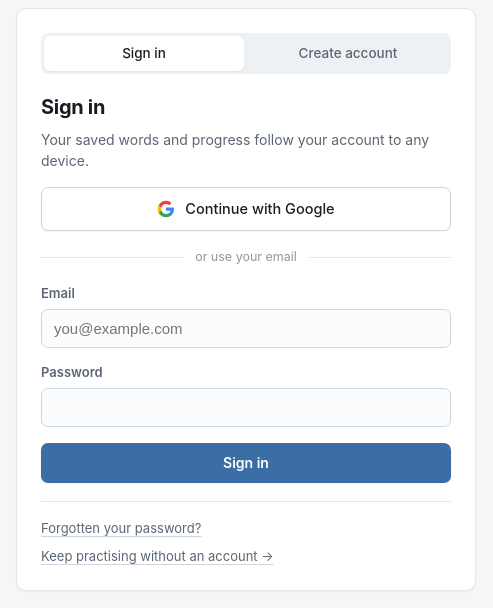
Scenario: AccountPage — Google › hides Google on the password-reset step
This screenshot has width=493, height=608.
Click the button "Forgotten your password?" at (121, 528), box top-left (41, 518), bottom-right (201, 538)
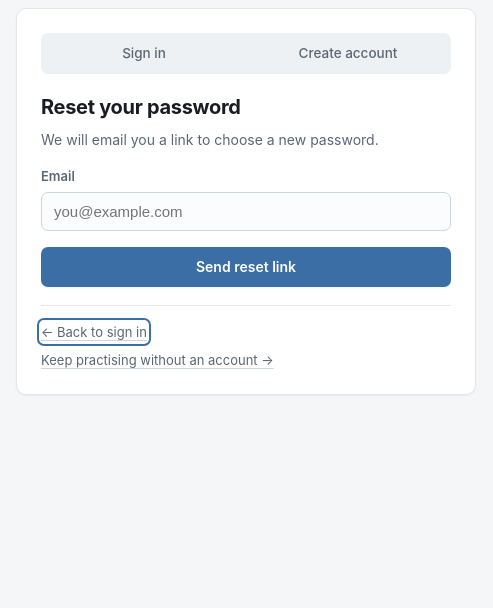
Now the button "Continue with Google" is gone
